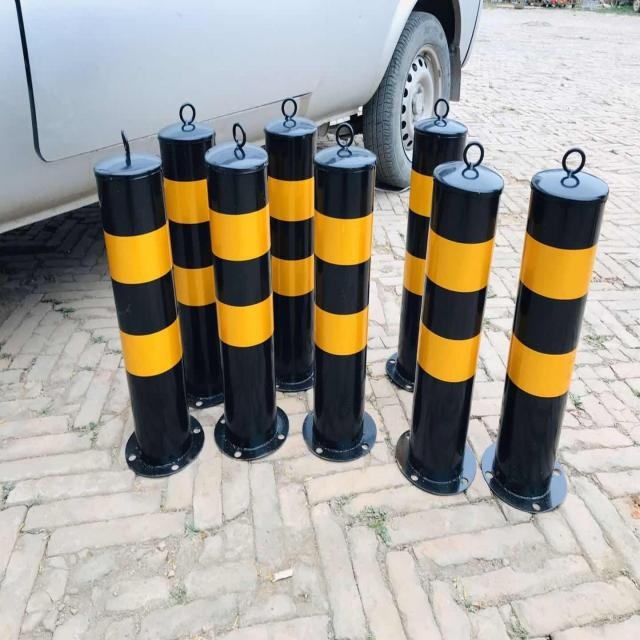car: (5, 2, 480, 239)
warning_column: (482, 148, 608, 512), (394, 143, 506, 492), (92, 130, 204, 477), (202, 122, 292, 461), (302, 122, 377, 461), (157, 102, 217, 409), (267, 98, 317, 391)
